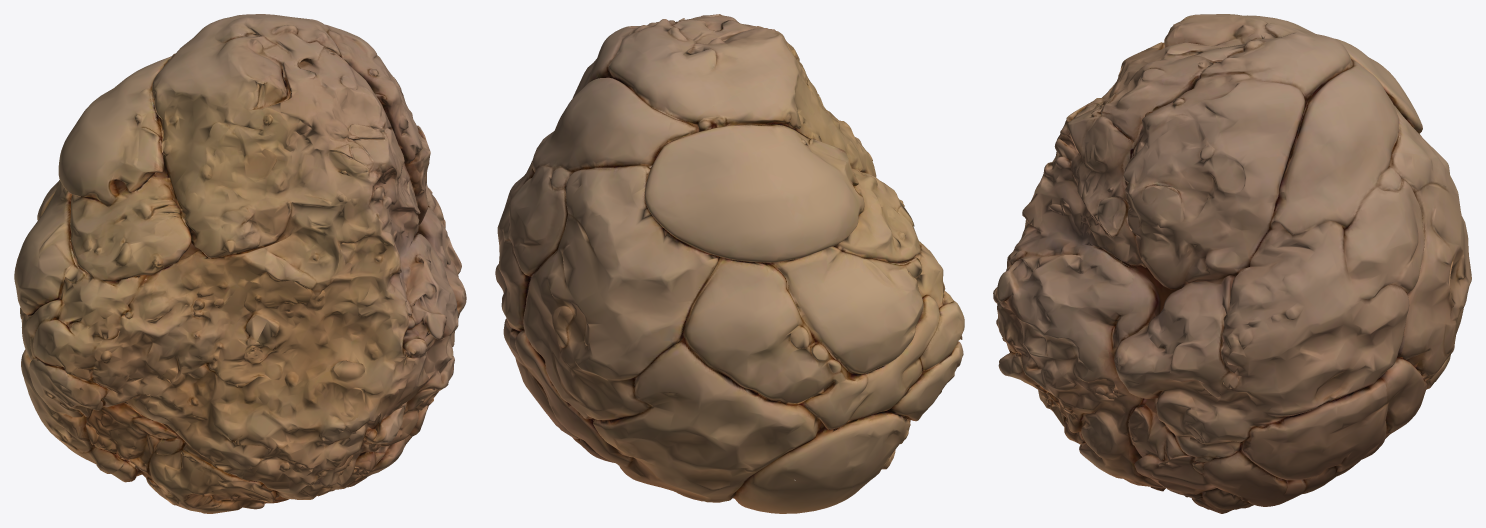
File: desert_rock_large.glb
3 views of the same model, side by side, from view 1: azimuth 30°, elevation 25°; view 2: azimuth 150°, elevation 25°; view 3: azimuth 270°, elevation 25° (orthographic). The views are drawn at different scales.
Visible parts, largest first — view 1: tripo_node_d939e44b-4541-41c9-8f9e-8a9b11b98178; view 2: tripo_node_d939e44b-4541-41c9-8f9e-8a9b11b98178; view 3: tripo_node_d939e44b-4541-41c9-8f9e-8a9b11b98178.
Boxes of the visible parts, bbox=[...] form: tripo_node_d939e44b-4541-41c9-8f9e-8a9b11b98178: bbox=[14, 14, 466, 513]; tripo_node_d939e44b-4541-41c9-8f9e-8a9b11b98178: bbox=[495, 14, 964, 513]; tripo_node_d939e44b-4541-41c9-8f9e-8a9b11b98178: bbox=[993, 14, 1471, 513].
Size of the model in its own units: 0.9554 by 0.9804 by 0.9247.
Materials: 1 (1 with a texture image).
